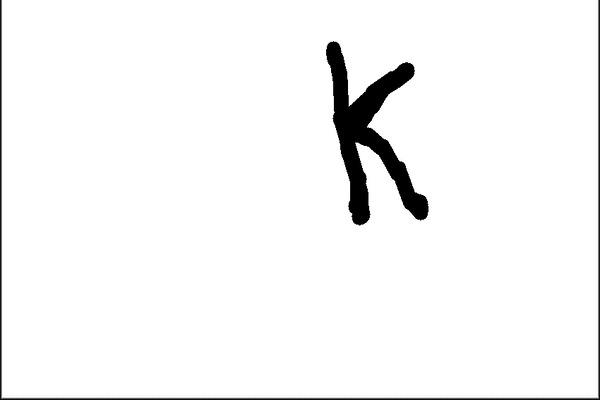K: (317, 33, 434, 229)
